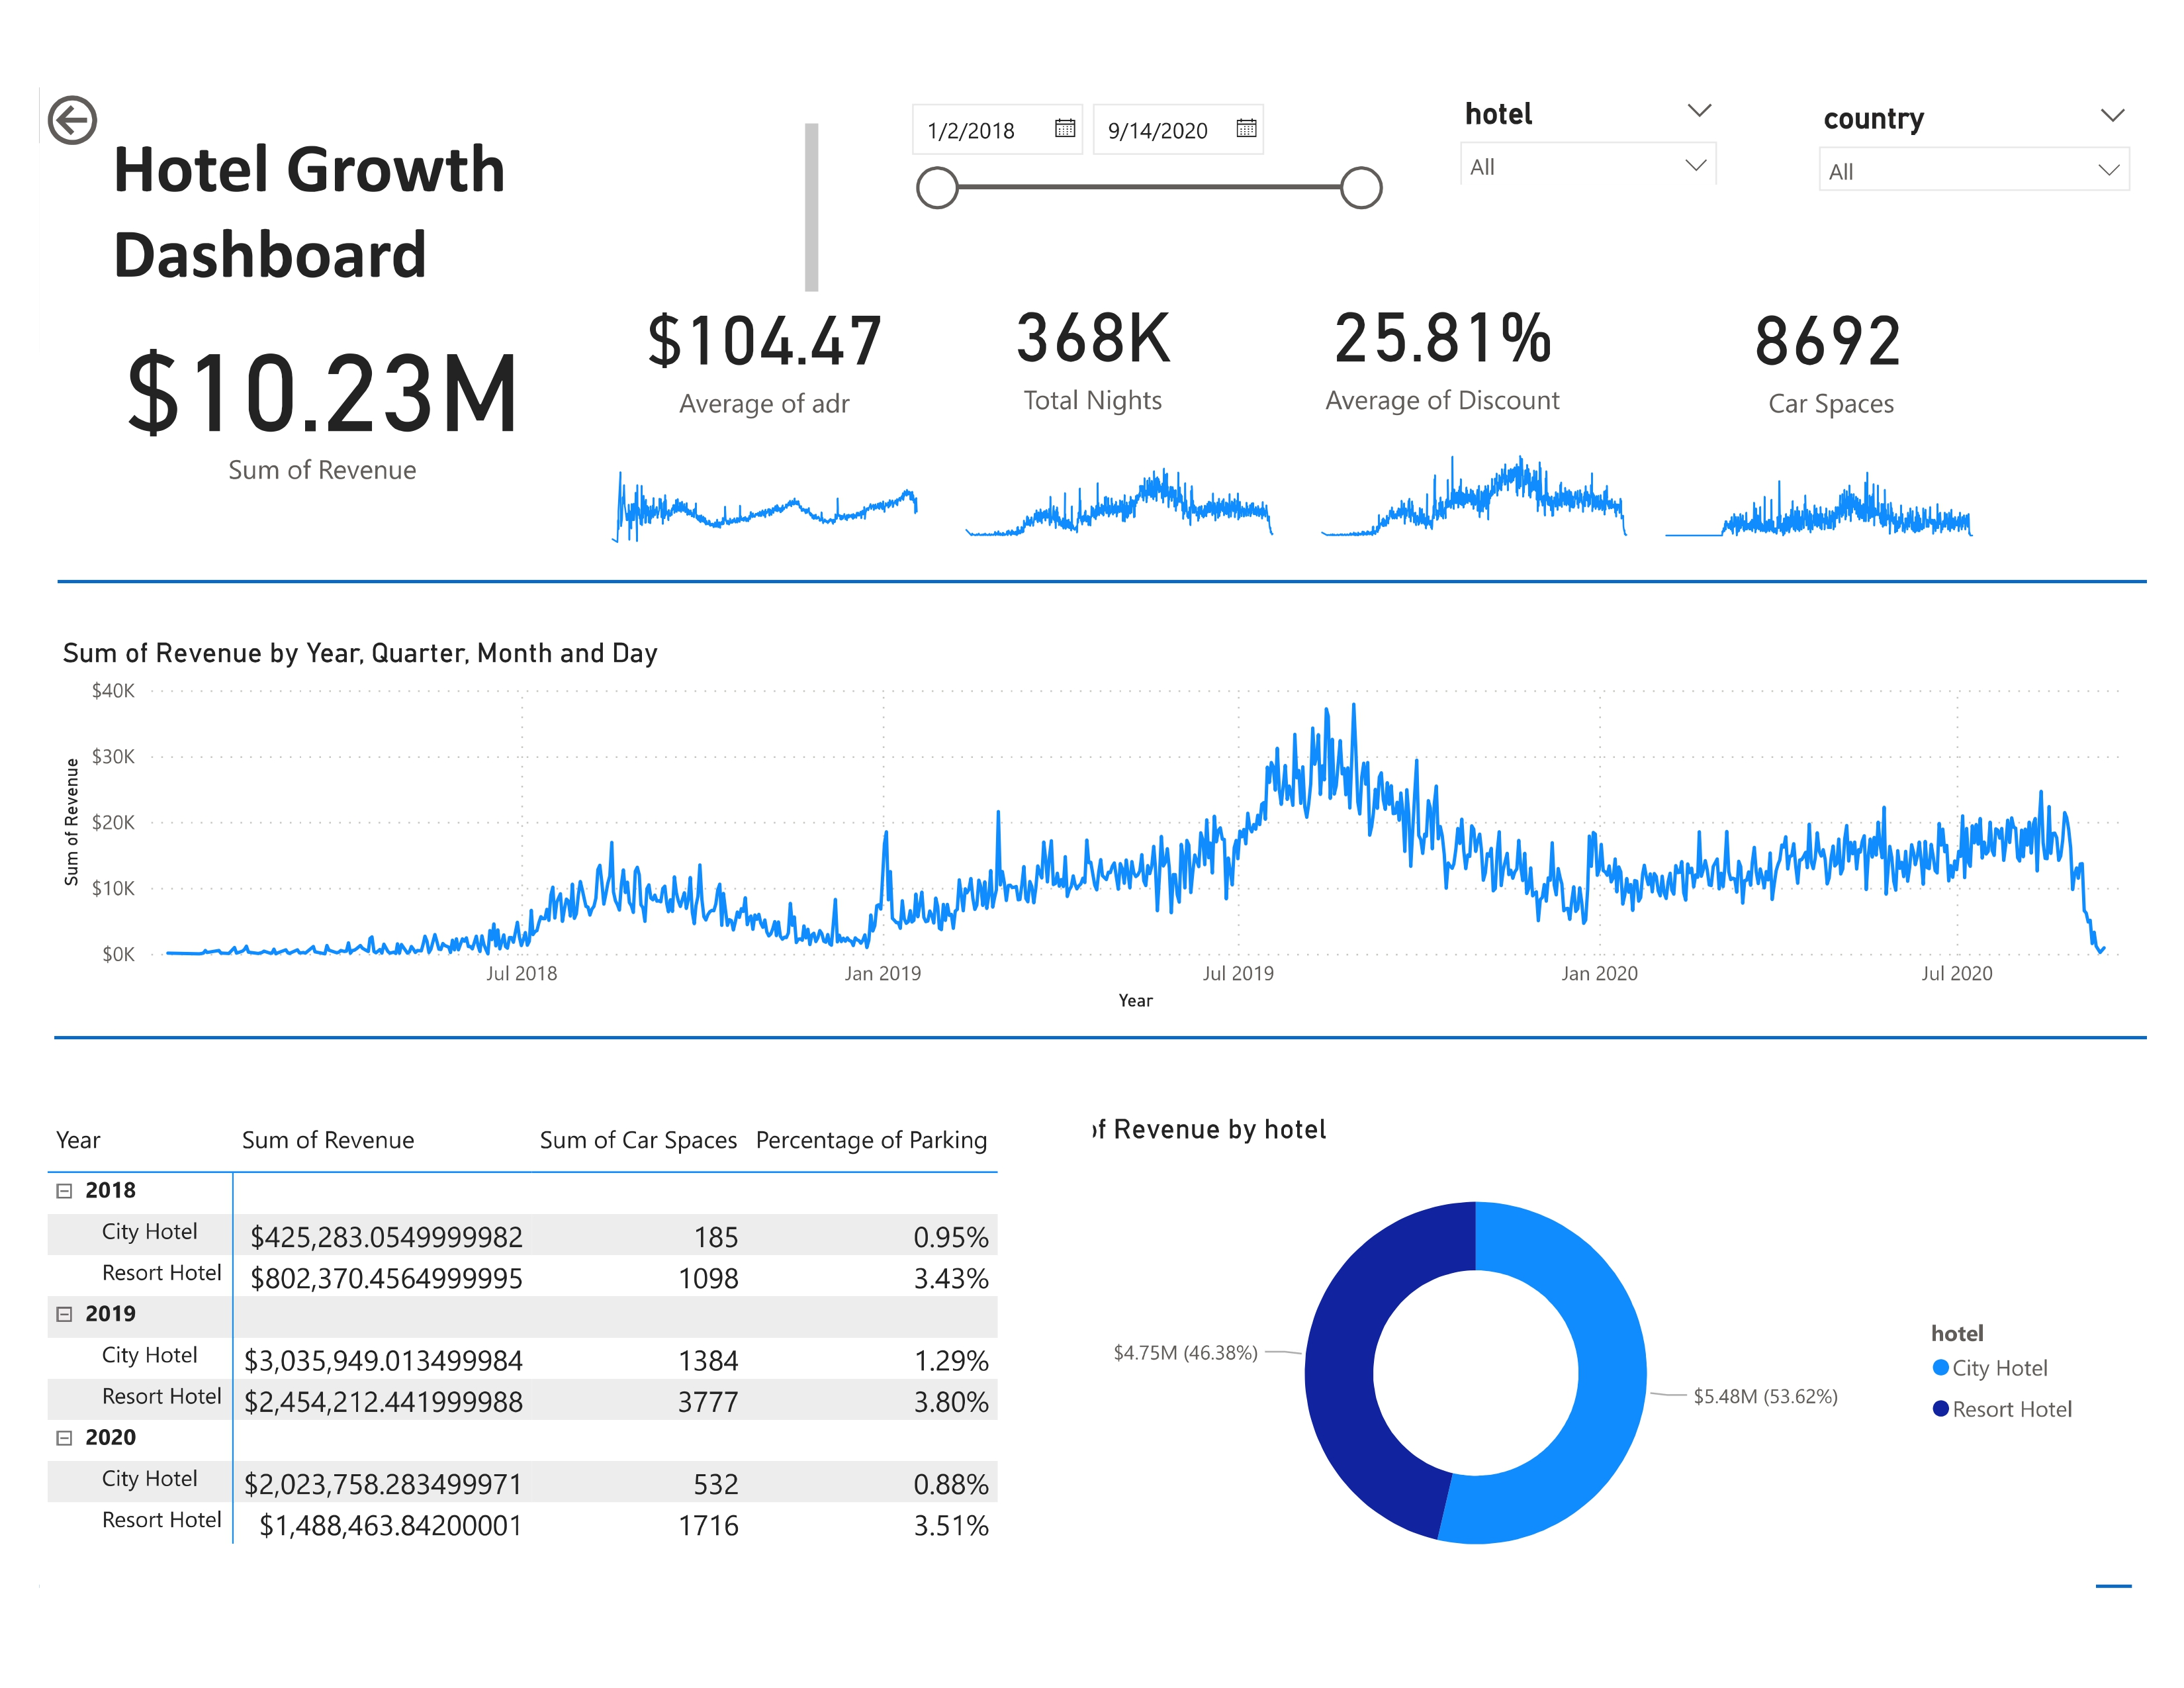

What the dashboard file says about the page in this screenshot:
{"tool":"powerbi","page":{"name":"Page 1","canvas":[1280,920],"ordinal":0},"visuals":[{"type":"shape","box":[11,281.5,1269.6,36.8],"z":0},{"type":"shape","box":[9.2,564.9,1271.4,23.9],"z":1000},{"type":"shape","box":[0,899.8,1271.4,20.2],"z":2000},{"type":"card","fields":{"Values":["Sum(Project2_combined_tables.Revenue)"]},"box":[11,101.2,322,171.1],"z":3000},{"type":"card","fields":{"Values":["Avg(Project2_combined_tables.adr)"]},"box":[320.2,108.6,241,101.2],"z":4000},{"type":"card","fields":{"Values":["Project2_combined_tables.Total Nights"]},"box":[548.3,108.6,184,97.5],"z":5000},{"type":"card","fields":{"Values":["Avg(Project2_combined_tables.Discount)"]},"box":[732.3,108.6,241,97.5],"z":6000},{"type":"actionButton","box":[0,0,100,40],"z":7000},{"type":"lineChart","fields":{"Category":["Project2_combined_tables.reservation_status_date.Variation.Date Hierarchy.Year","Project2_combined_tables.reservation_status_date.Variation.Date Hierarchy.Quarter","Project2_combined_tables.reservation_status_date.Variation.Date Hierarchy.Month","Project2_combined_tables.reservation_status_date.Variation.Date Hierarchy.Day"],"Y":["Sum(Project2_combined_tables.Revenue)"]},"box":[9.2,333,1271.4,231.8],"z":8000},{"type":"slicer","fields":{"Values":["Project2_combined_tables.country"]},"box":[1070.8,3.3,209.2,64.7],"z":9000},{"type":"slicer","fields":{"Values":["Project2_combined_tables.hotel"]},"box":[852.8,0,175.8,59.2],"z":10000},{"type":"card","fields":{"Values":["Sum(Project2_combined_tables.required_car_parking_spaces)"]},"box":[973.4,108.6,226.3,101.2],"z":11000},{"type":"donutChart","fields":{"Category":["Project2_combined_tables.hotel"],"Y":["Sum(Project2_combined_tables.Revenue)"]},"box":[590.6,621.9,658.7,298.1],"z":12000},{"type":"pivotTable","fields":{"Rows":["Project2_combined_tables.reservation_status_date.Variation.Date Hierarchy.Year","Project2_combined_tables.hotel"],"Values":["Sum(Project2_combined_tables.Revenue)","Sum(Project2_combined_tables.Car Spaces)","Project2_combined_tables.Percentage of Parking"]},"box":[0,621.9,640.3,298.1],"z":13000},{"type":"slicer","fields":{"Values":["Project2_combined_tables.reservation_status_date"]},"box":[517,0,307.3,84.6],"z":14000},{"type":"lineChart","fields":{"Category":["Project2_combined_tables.reservation_status_date.Variation.Date Hierarchy.Year","Project2_combined_tables.reservation_status_date.Variation.Date Hierarchy.Quarter","Project2_combined_tables.reservation_status_date.Variation.Date Hierarchy.Month","Project2_combined_tables.reservation_status_date.Variation.Date Hierarchy.Day"],"Y":["Avg(Project2_combined_tables.adr)"]},"box":[333,209.8,215.3,71.8],"z":15000},{"type":"lineChart","fields":{"Category":["Project2_combined_tables.reservation_status_date.Variation.Date Hierarchy.Year","Project2_combined_tables.reservation_status_date.Variation.Date Hierarchy.Quarter","Project2_combined_tables.reservation_status_date.Variation.Date Hierarchy.Month","Project2_combined_tables.reservation_status_date.Variation.Date Hierarchy.Day"],"Y":["Sum(Project2_combined_tables.Car Spaces)"]},"box":[973.4,206.1,215.3,71.8],"z":16000},{"type":"lineChart","fields":{"Category":["Project2_combined_tables.reservation_status_date.Variation.Date Hierarchy.Year","Project2_combined_tables.reservation_status_date.Variation.Date Hierarchy.Quarter","Project2_combined_tables.reservation_status_date.Variation.Date Hierarchy.Month","Project2_combined_tables.reservation_status_date.Variation.Date Hierarchy.Day"],"Y":["Sum(Project2_combined_tables.Discount)"]},"box":[763.6,206.1,215.3,71.8],"z":17000},{"type":"lineChart","fields":{"Category":["Project2_combined_tables.reservation_status_date.Variation.Date Hierarchy.Year","Project2_combined_tables.reservation_status_date.Variation.Date Hierarchy.Quarter","Project2_combined_tables.reservation_status_date.Variation.Date Hierarchy.Month","Project2_combined_tables.reservation_status_date.Variation.Date Hierarchy.Day"],"Y":["Project2_combined_tables.Total Nights"]},"box":[548.3,206.1,215.3,71.8],"z":18000},{"type":"textbox","box":[39,17,439,113],"z":19000}]}

Visuals, with their boxes on the page's 1280x920 design canvas (x1, y1, x2, y2). These are canvas units, not pixel positions in the 2184x1688 screenshot, which may show the page scaled, cropped or inside an application window:
shape: rect(11, 282, 1281, 318)
shape: rect(9, 565, 1281, 589)
shape: rect(0, 900, 1271, 920)
card - Sum(Project2_combined_tables.Revenue): rect(11, 101, 333, 272)
card - Avg(Project2_combined_tables.adr): rect(320, 109, 561, 210)
card - Project2_combined_tables.Total Nights: rect(548, 109, 732, 206)
card - Avg(Project2_combined_tables.Discount): rect(732, 109, 973, 206)
actionButton: rect(0, 0, 100, 40)
lineChart - Project2_combined_tables.reservation_status_date.Variation.Date Hierarchy.Year x Project2_combined_tables.reservation_status_date.Variation.Date Hierarchy.Quarter: rect(9, 333, 1281, 565)
slicer - Project2_combined_tables.country: rect(1071, 3, 1280, 68)
slicer - Project2_combined_tables.hotel: rect(853, 0, 1029, 59)
card - Sum(Project2_combined_tables.required_car_parking_spaces): rect(973, 109, 1200, 210)
donutChart - Project2_combined_tables.hotel x Sum(Project2_combined_tables.Revenue): rect(591, 622, 1249, 920)
pivotTable - Project2_combined_tables.reservation_status_date.Variation.Date Hierarchy.Year x Project2_combined_tables.hotel: rect(0, 622, 640, 920)
slicer - Project2_combined_tables.reservation_status_date: rect(517, 0, 824, 85)
lineChart - Project2_combined_tables.reservation_status_date.Variation.Date Hierarchy.Year x Project2_combined_tables.reservation_status_date.Variation.Date Hierarchy.Quarter: rect(333, 210, 548, 282)
lineChart - Project2_combined_tables.reservation_status_date.Variation.Date Hierarchy.Year x Project2_combined_tables.reservation_status_date.Variation.Date Hierarchy.Quarter: rect(973, 206, 1189, 278)
lineChart - Project2_combined_tables.reservation_status_date.Variation.Date Hierarchy.Year x Project2_combined_tables.reservation_status_date.Variation.Date Hierarchy.Quarter: rect(764, 206, 979, 278)
lineChart - Project2_combined_tables.reservation_status_date.Variation.Date Hierarchy.Year x Project2_combined_tables.reservation_status_date.Variation.Date Hierarchy.Quarter: rect(548, 206, 764, 278)
textbox: rect(39, 17, 478, 130)
